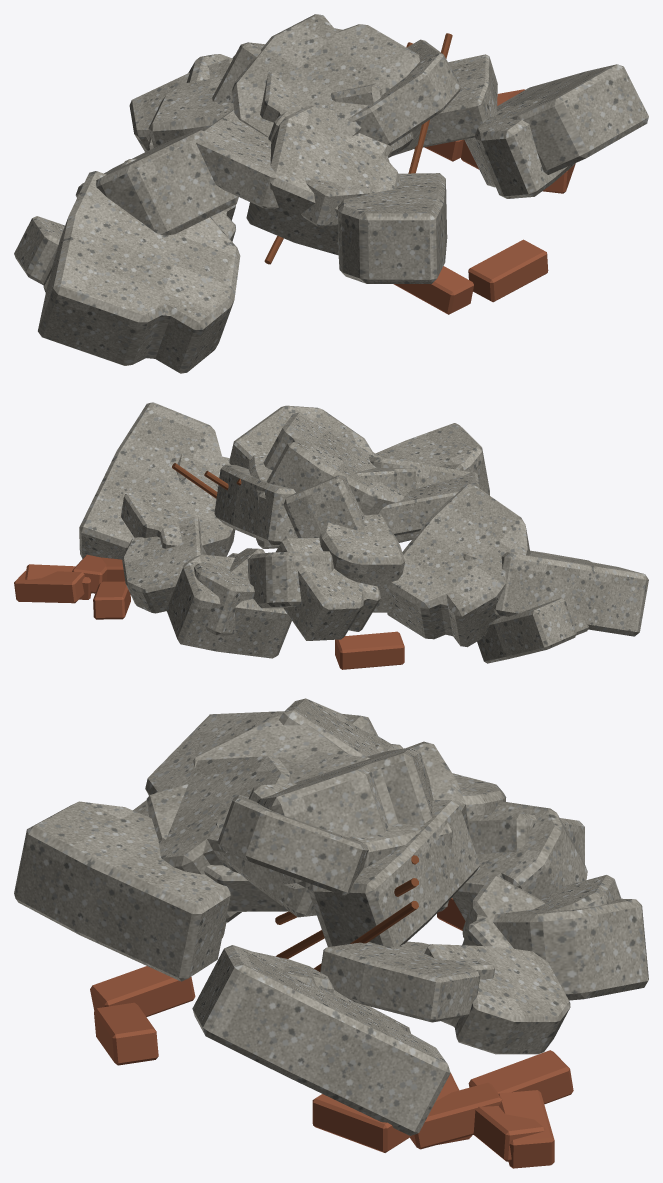
File: rubble_pile_02.glb
3 views of the same model, one above another, from view 1: azimuth 30°, elevation 25°; view 2: azimuth 150°, elevation 25°; view 3: azimuth 270°, elevation 25° (orthographic). The views are drawn at different scales.
Visible parts, largest first — view 1: rubble_pile_02__m7_concrete, rubble_pile_02__m7_brick, rubble_pile_02__m7_rusted_rebar; view 2: rubble_pile_02__m7_concrete, rubble_pile_02__m7_brick, rubble_pile_02__m7_rusted_rebar; view 3: rubble_pile_02__m7_concrete, rubble_pile_02__m7_brick, rubble_pile_02__m7_rusted_rebar.
Boxes of the visible parts, x1,y1,x2,y2 form: rubble_pile_02__m7_concrete: (14,14,648,373); rubble_pile_02__m7_brick: (393,89,575,314); rubble_pile_02__m7_rusted_rebar: (264,33,452,264); rubble_pile_02__m7_concrete: (79,402,648,663); rubble_pile_02__m7_brick: (14,554,404,669); rubble_pile_02__m7_rusted_rebar: (172,463,241,498); rubble_pile_02__m7_concrete: (14,698,648,1135); rubble_pile_02__m7_brick: (90,898,573,1168); rubble_pile_02__m7_rusted_rebar: (275,855,418,971).
Size of the model in its own units: 2.11 by 0.7473 by 1.54.
Materials: 3 (1 with a texture image).
